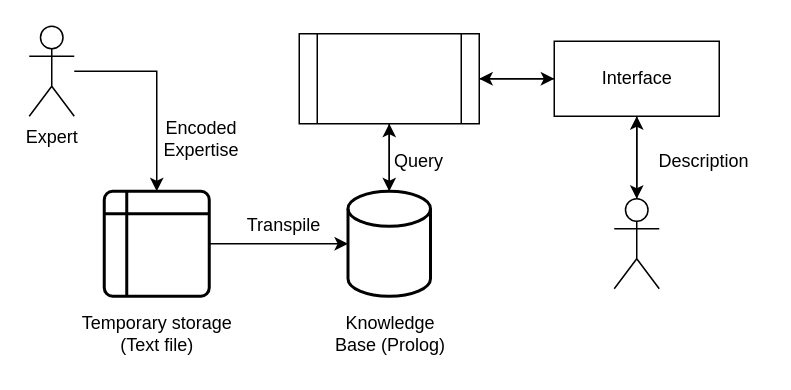
Some shapes in this 791 by 390 pixel diagram are drawn without their labels. The shapes that lost their labels are listed below. From the top down, each one's centre as x and y in pixels, then its label:
At [388,78]: "Engine".
At [636,243]: "User".
